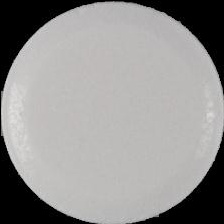0615-7675: (0, 0, 224, 224)
